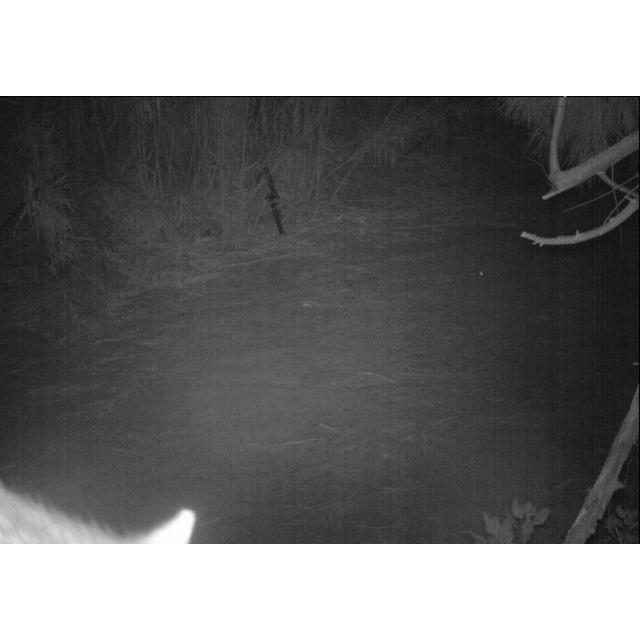animals: (0, 471, 196, 545)
